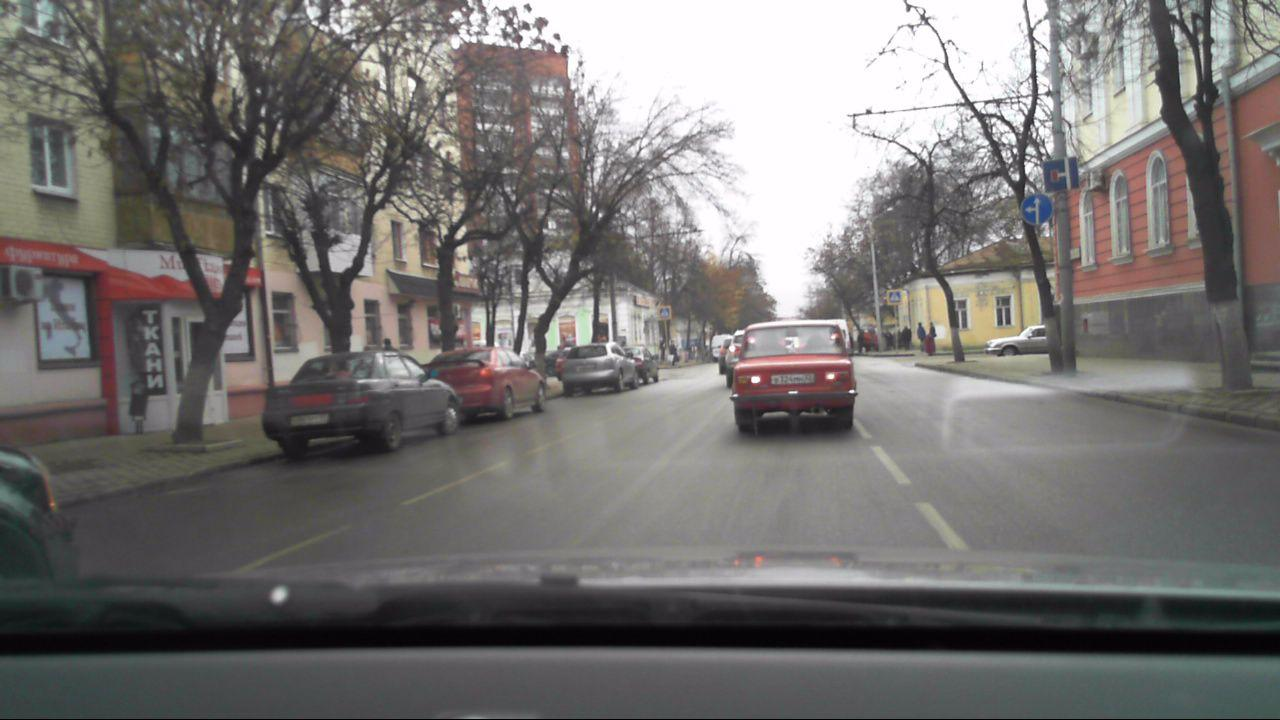4_1_5: (1020, 193, 1052, 225)
5_19_1: (888, 288, 901, 304)
5_19_2: (658, 306, 672, 322)
6_8_3: (1042, 156, 1081, 192)
